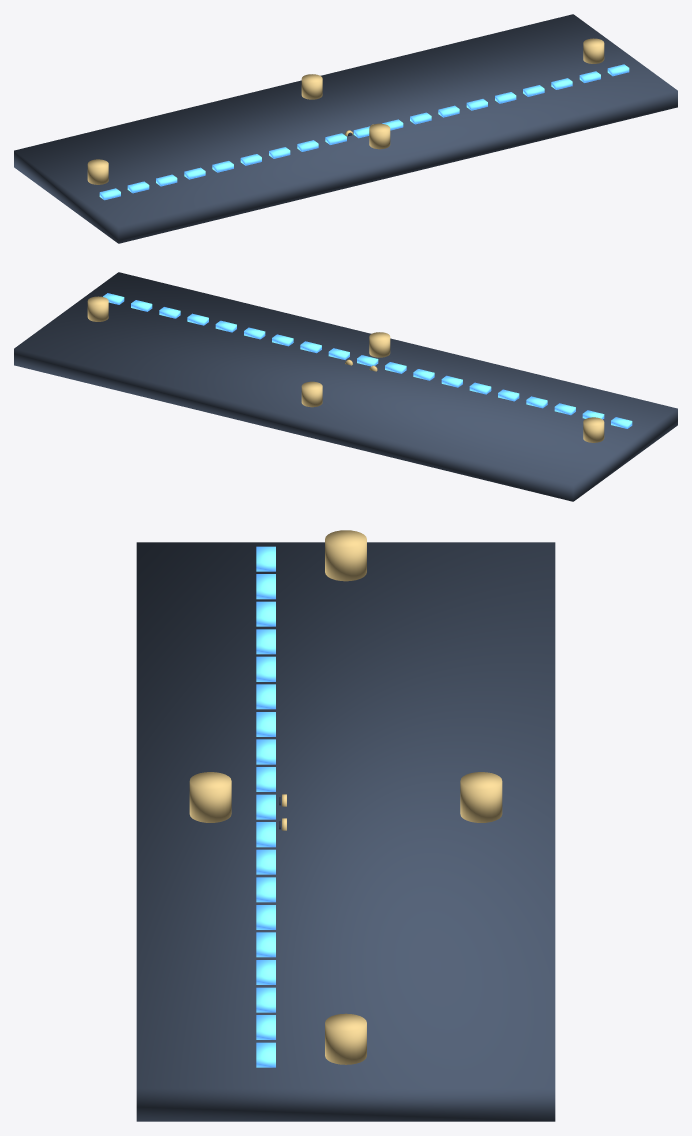
The model's file is 05_L91_FourPulsarNavigationProjectionStage.glb.
The picture shows the model from 3 angles, top to bottom: view 1: azimuth 30°, elevation 25°; view 2: azimuth 150°, elevation 25°; view 3: azimuth 270°, elevation 25°; orthographic projection. The views are drawn at different scales.
Parts seen in each view (by area): view 1: L91_FourPulsarNavigationProje_Part_0000, L91_FourPulsarNavigationProje_Part_0001, L91_FourPulsarNavigationProje_Part_0003, L91_FourPulsarNavigationProje_Part_0002; view 2: L91_FourPulsarNavigationProje_Part_0000, L91_FourPulsarNavigationProje_Part_0001, L91_FourPulsarNavigationProje_Part_0003, L91_FourPulsarNavigationProje_Part_0002; view 3: L91_FourPulsarNavigationProje_Part_0000, L91_FourPulsarNavigationProje_Part_0001, L91_FourPulsarNavigationProje_Part_0003, L91_FourPulsarNavigationProje_Part_0002.
Boxes of the visible parts, left/top/right/bottom form: L91_FourPulsarNavigationProje_Part_0000: left=14, top=14, right=677, bottom=243; L91_FourPulsarNavigationProje_Part_0001: left=99, top=78, right=572, bottom=200; L91_FourPulsarNavigationProje_Part_0003: left=87, top=38, right=604, bottom=184; L91_FourPulsarNavigationProje_Part_0002: left=579, top=64, right=629, bottom=82; L91_FourPulsarNavigationProje_Part_0000: left=14, top=272, right=677, bottom=501; L91_FourPulsarNavigationProje_Part_0001: left=159, top=307, right=632, bottom=428; L91_FourPulsarNavigationProje_Part_0003: left=87, top=296, right=604, bottom=442; L91_FourPulsarNavigationProje_Part_0002: left=103, top=293, right=152, bottom=311; L91_FourPulsarNavigationProje_Part_0000: left=136, top=542, right=555, bottom=1121; L91_FourPulsarNavigationProje_Part_0001: left=256, top=546, right=275, bottom=1012; L91_FourPulsarNavigationProje_Part_0003: left=189, top=530, right=502, bottom=1064; L91_FourPulsarNavigationProje_Part_0002: left=256, top=1015, right=275, bottom=1067.
Size of the model in its own units: 10.5 by 0.61 by 3.4.
